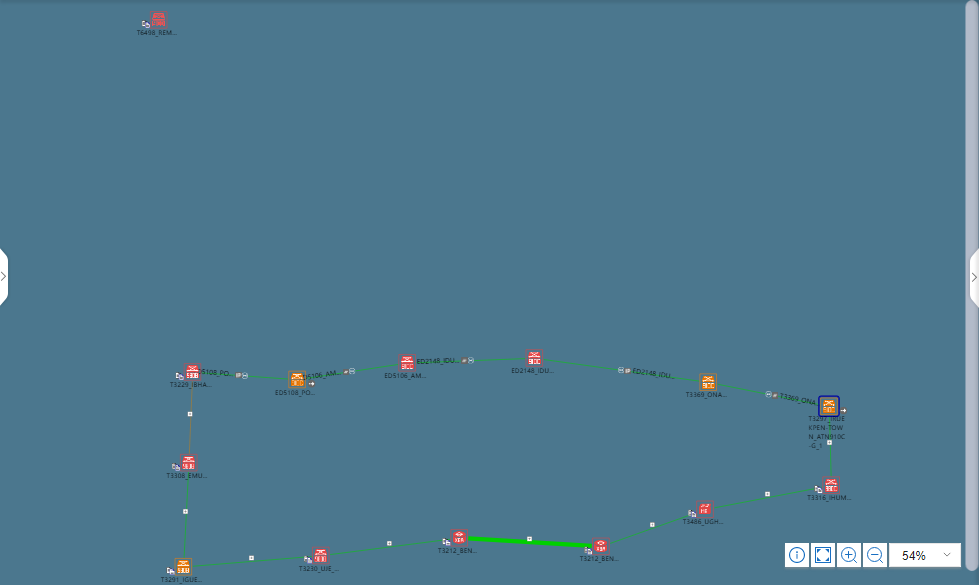ATN_Orange: (291, 369, 307, 392), (701, 375, 717, 392), (823, 400, 840, 415), (174, 559, 190, 574)
ATN_Red: (401, 357, 418, 374), (150, 14, 167, 31), (529, 351, 546, 367), (315, 546, 332, 562), (181, 455, 197, 471), (823, 479, 838, 496), (187, 363, 203, 378)
Link_Gray: (187, 381, 197, 415)
Link_Green: (548, 357, 698, 386), (719, 381, 821, 410), (468, 534, 595, 551), (193, 553, 307, 569), (609, 516, 676, 543), (720, 485, 809, 505), (207, 369, 289, 386), (327, 540, 413, 554), (309, 363, 384, 377), (181, 473, 191, 551), (419, 357, 482, 367)
Router_Red: (590, 540, 613, 557), (450, 528, 473, 545), (694, 504, 717, 520)
Switch_Red: (150, 14, 167, 31)
